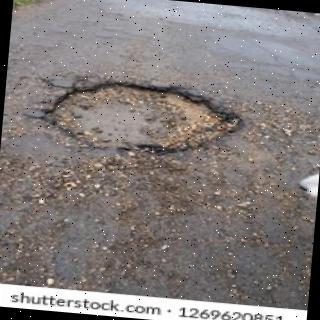pothole: (51, 83, 240, 152)
